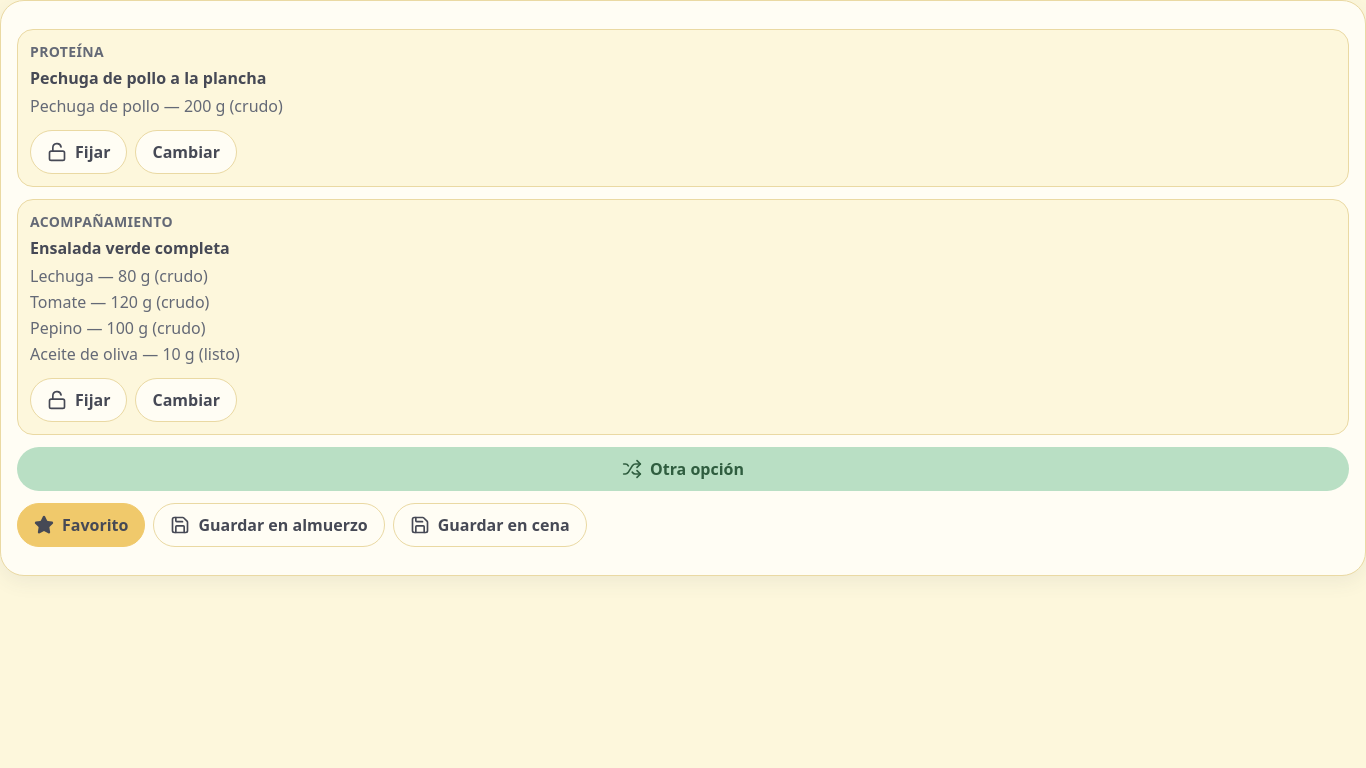
Test case: Guardar en cena writes today’s dinner slot
Step 1. Click the button "Guardar en cena" → (490, 525), box left=393, top=503, right=587, bottom=547
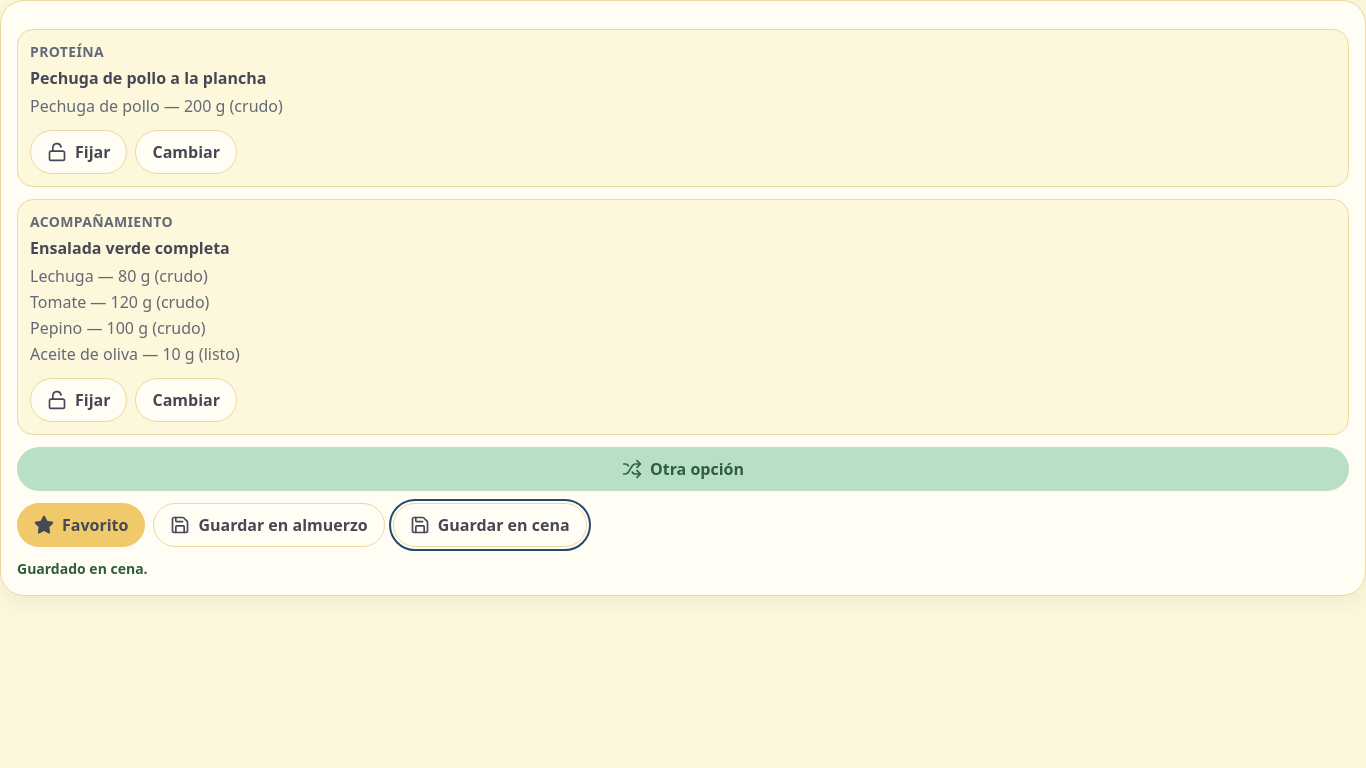
Check: the message reads "Guardado en cena.", box left=17, top=559, right=148, bottom=578
